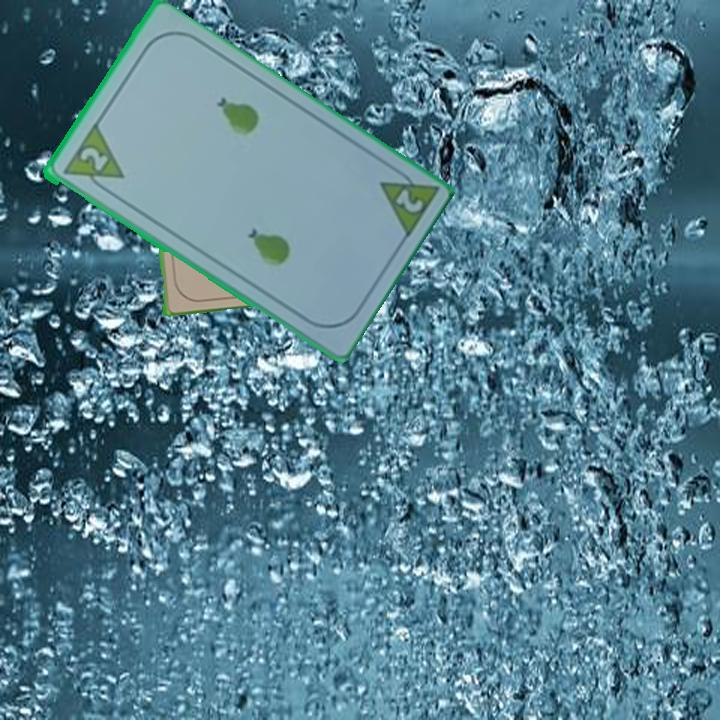2p: (375, 160, 439, 243), (58, 122, 127, 198)
